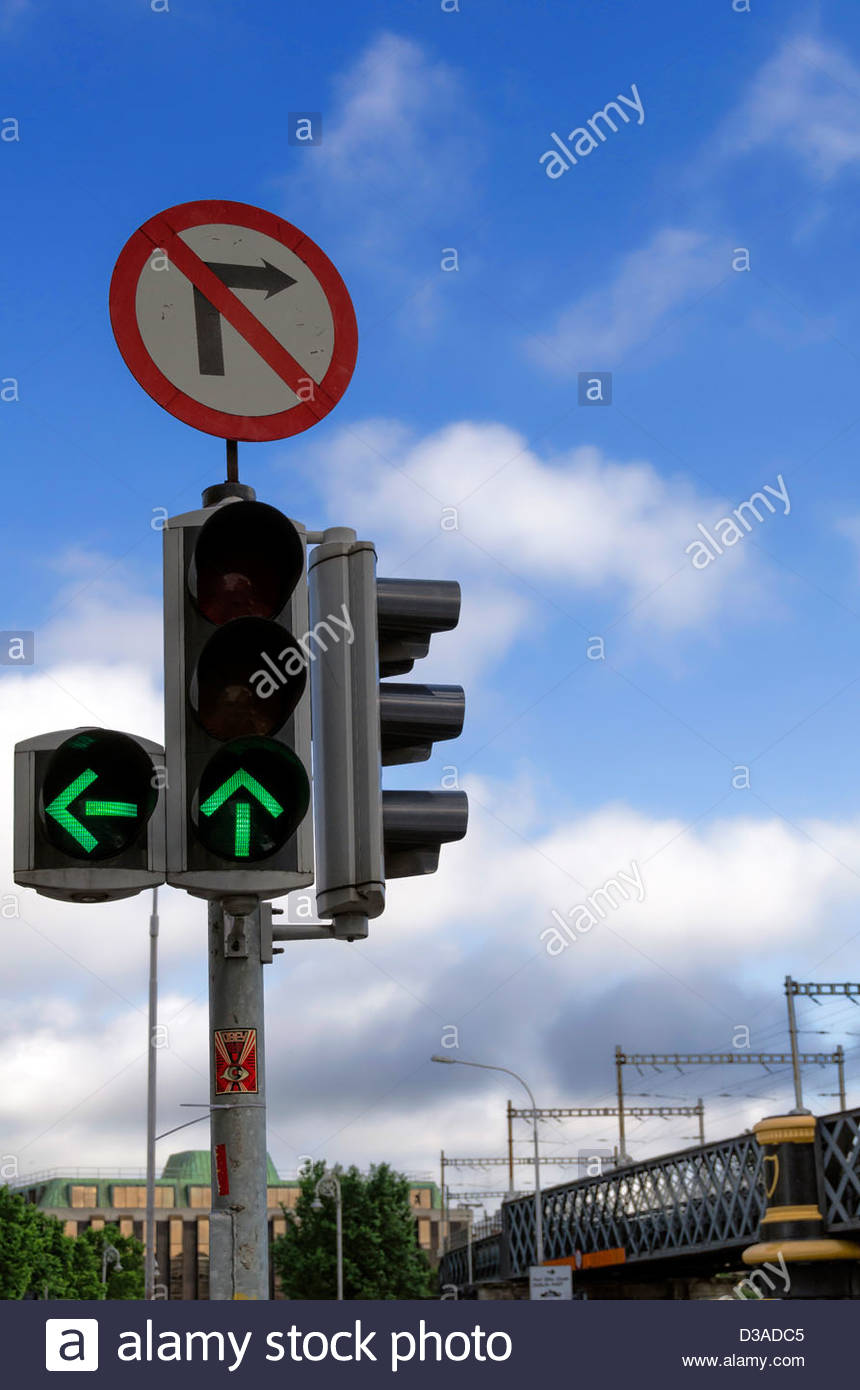No_right_turn: (108, 199, 359, 440)
